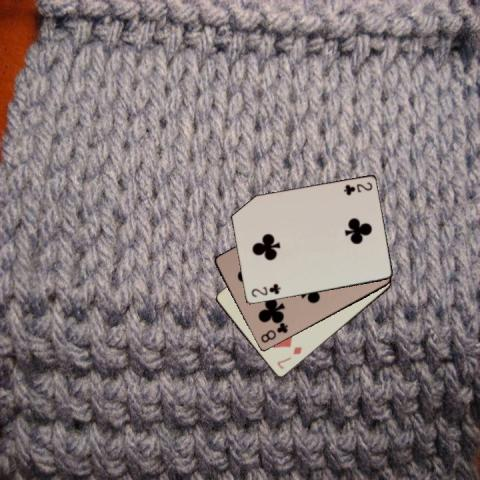2c: (248, 280, 281, 299), (341, 179, 373, 197)
7d: (274, 344, 303, 371)
8c: (258, 320, 290, 344)
